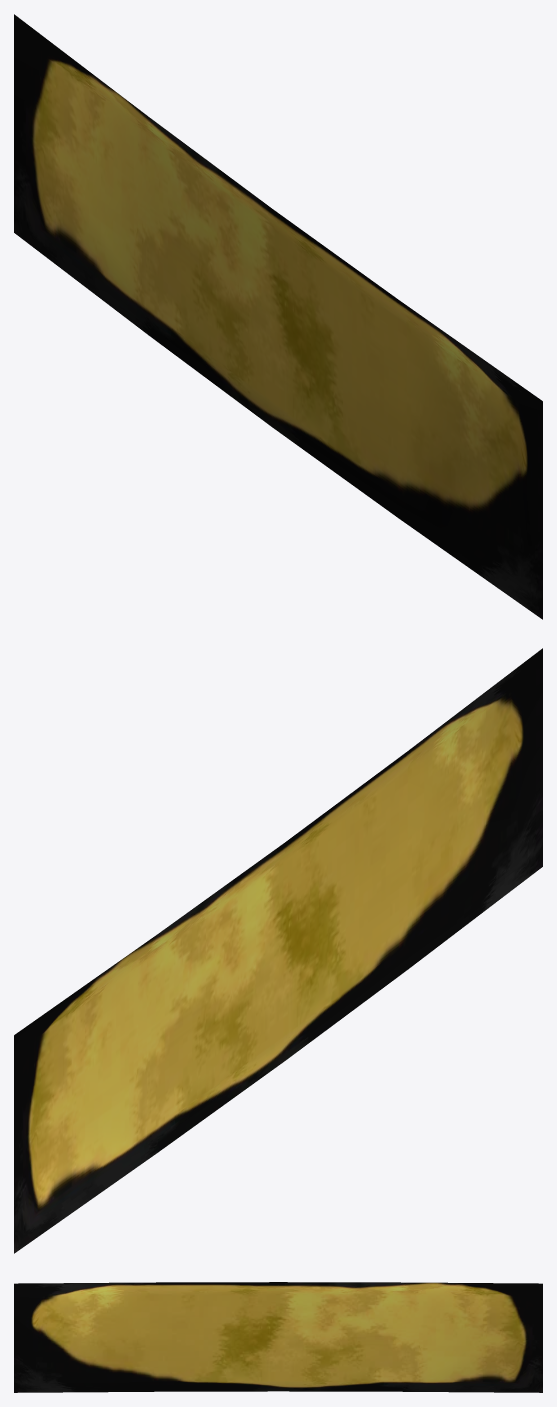
File: cloud03.glb
The picture shows the model from 3 angles, top to bottom: view 1: azimuth 30°, elevation 25°; view 2: azimuth 150°, elevation 25°; view 3: azimuth 270°, elevation 25°; orthographic projection. The views are drawn at different scales.
Visible parts, largest first — view 1: Cloud03; view 2: Cloud03; view 3: Cloud03.
Boxes of the visible parts, x1,y1,x2,y2 form: Cloud03: [14, 14, 542, 619]; Cloud03: [14, 648, 542, 1253]; Cloud03: [14, 1282, 542, 1392].
Size of the model in its own units: 0.0562 by 1.27 by 5.55.
1 material, 1 textured.
